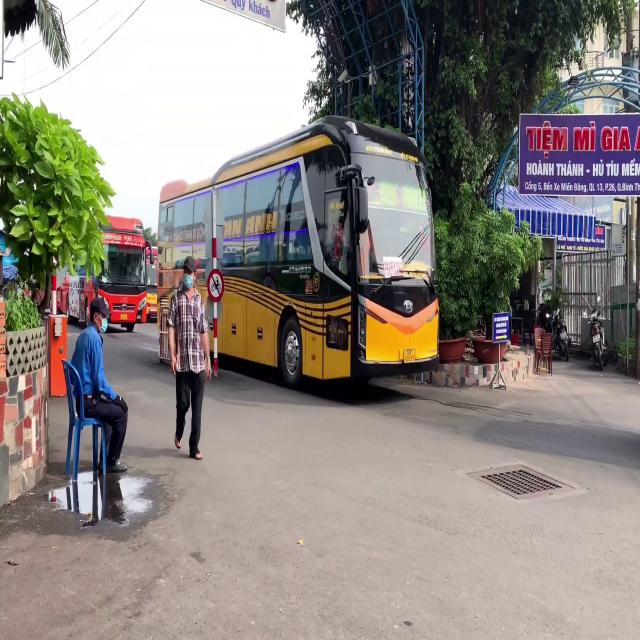bien_vang: (404, 348, 415, 362)
